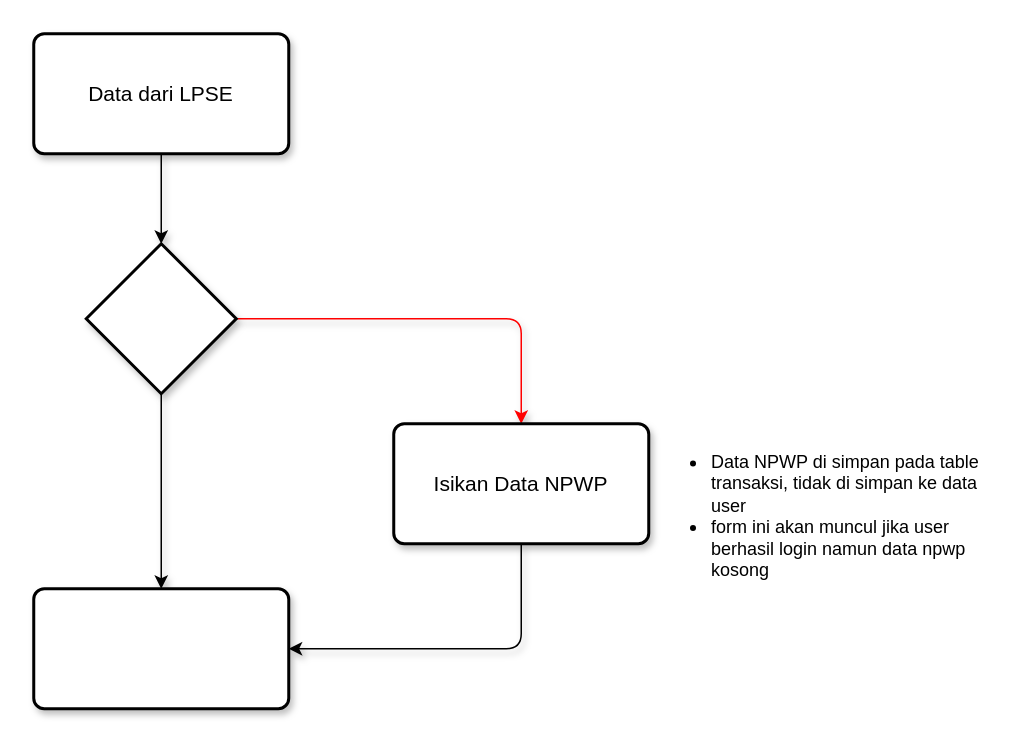
This 1028x746 diagram has some shape labels left out. The centre of each missing label's shape, as x and y in pixels:
"apakah ada data NPWP?" belongs at (162,320).
"Proses Transaksi" belongs at (162,650).
